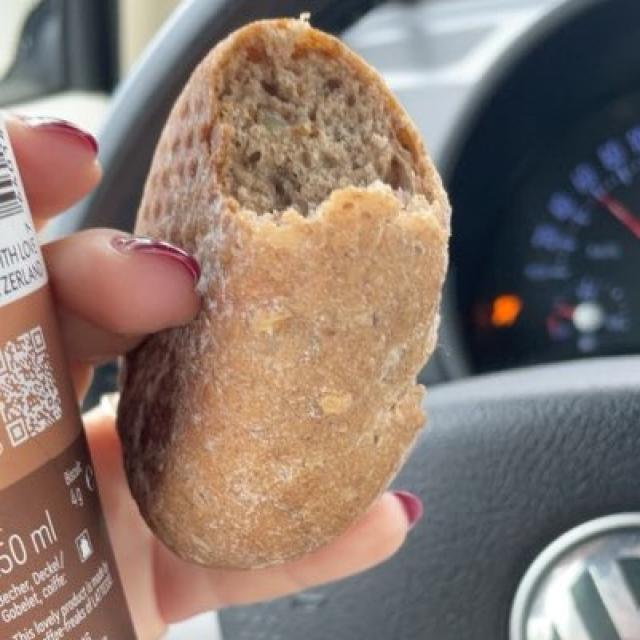bread-nut: (120, 31, 444, 554)
